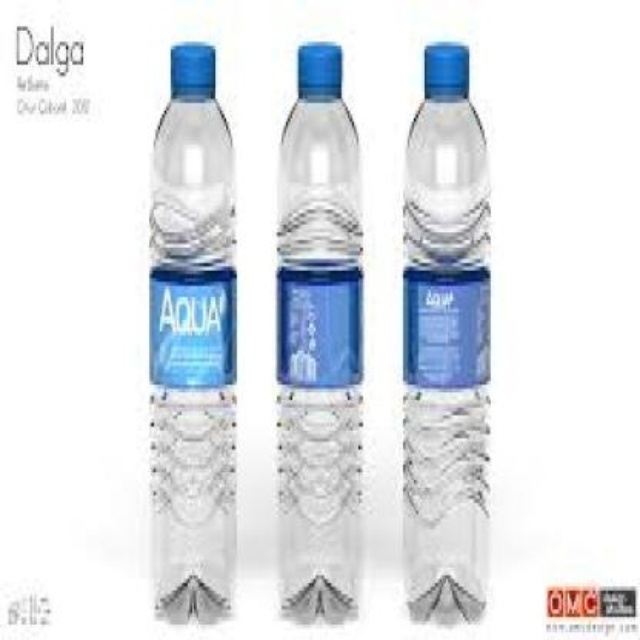trash: (403, 43, 489, 623), (149, 43, 234, 622), (277, 43, 362, 622)
